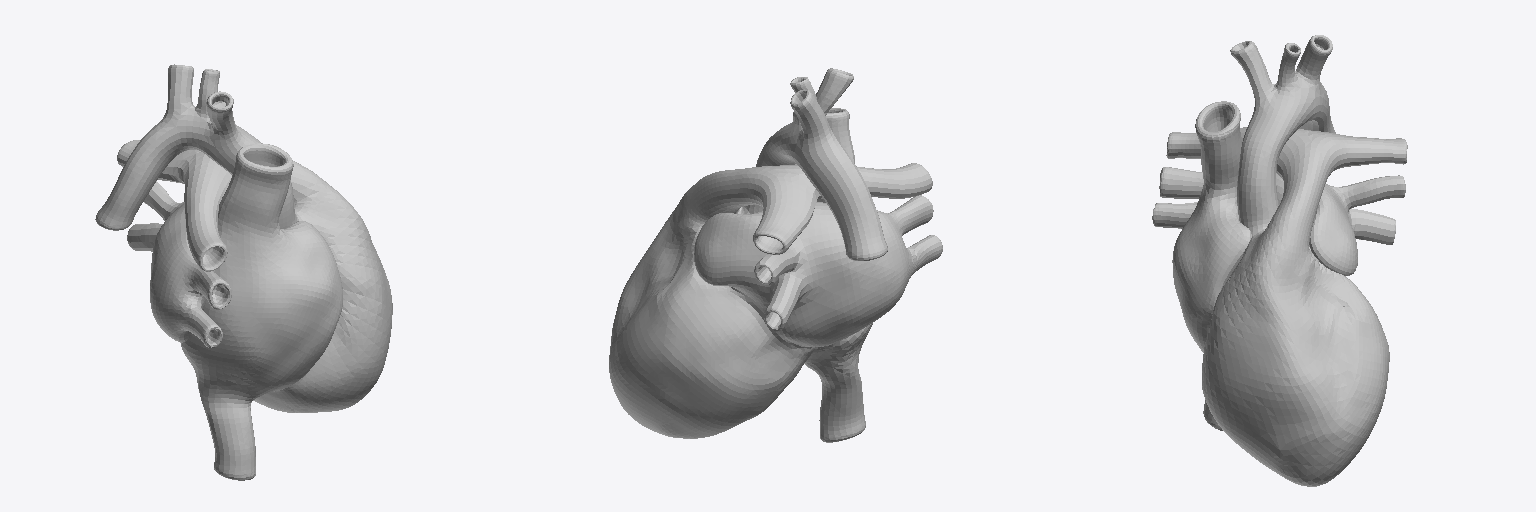
3 views of the same model, side by side, from view 1: azimuth 30°, elevation 25°; view 2: azimuth 150°, elevation 25°; view 3: azimuth 270°, elevation 25° (orthographic).
Parts seen in each view (by area): view 1: HEART_PRO; view 2: HEART_PRO; view 3: HEART_PRO.
Part boxes in pixels (x1,y1,x2,y2): HEART_PRO: (95, 64, 392, 480); HEART_PRO: (609, 68, 942, 442); HEART_PRO: (1152, 35, 1407, 486).
Size of the model in its own units: 610 by 815 by 491.